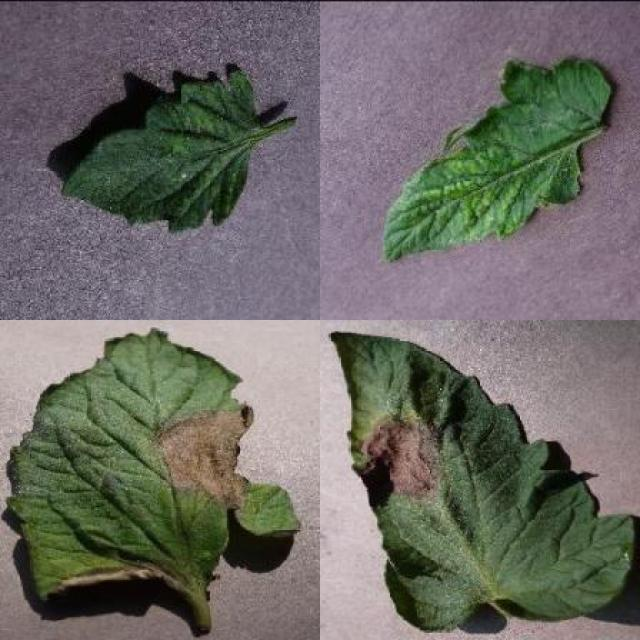Late Blight: (326, 328, 638, 633), (8, 326, 301, 604)
Mosaic Virus: (381, 56, 614, 264), (58, 62, 258, 238)
